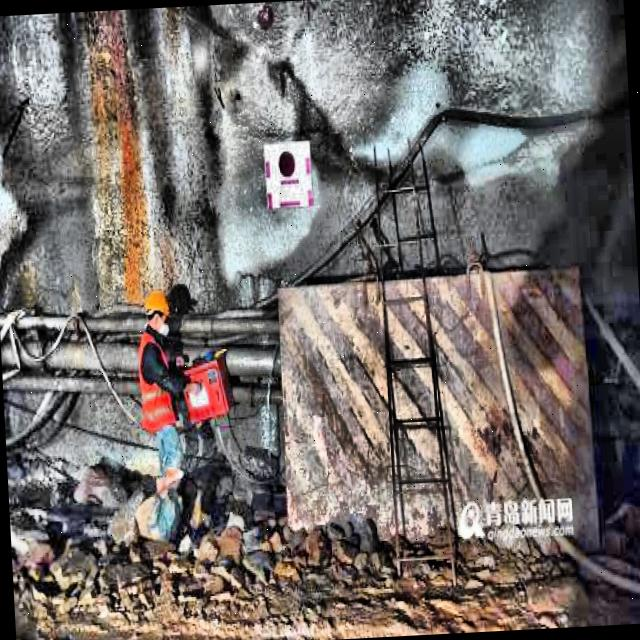helmet: (140, 284, 173, 338)
